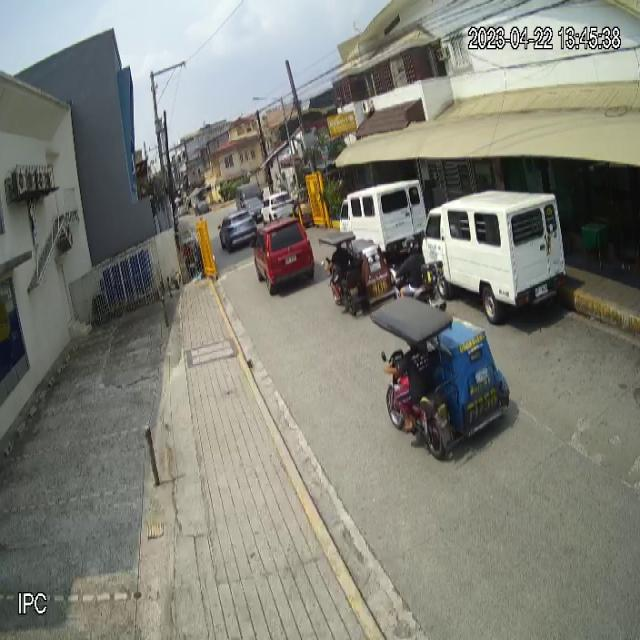Car: (250, 218, 315, 296)
Tricycle: (370, 294, 511, 462), (318, 229, 395, 316)
Van: (421, 186, 568, 326)
